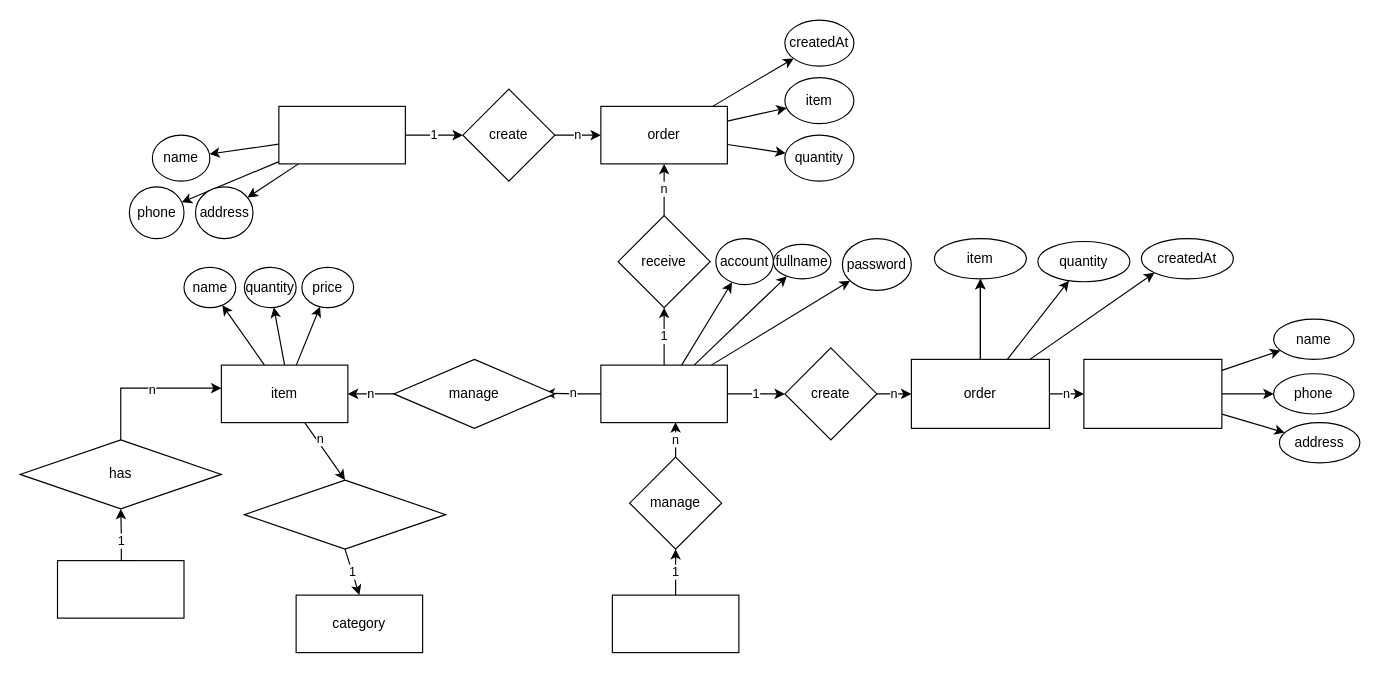
Image size: 1380x673. Some labels were removed from this diagram. Here are the shapes that lost their labels. From the top down, the box of each, then its label:
(278, 105, 405, 164): customer
(600, 364, 727, 423): staff
(1083, 358, 1222, 428): supplier
(243, 479, 446, 549): in
(56, 559, 184, 618): inventory
(611, 594, 739, 653): admin
